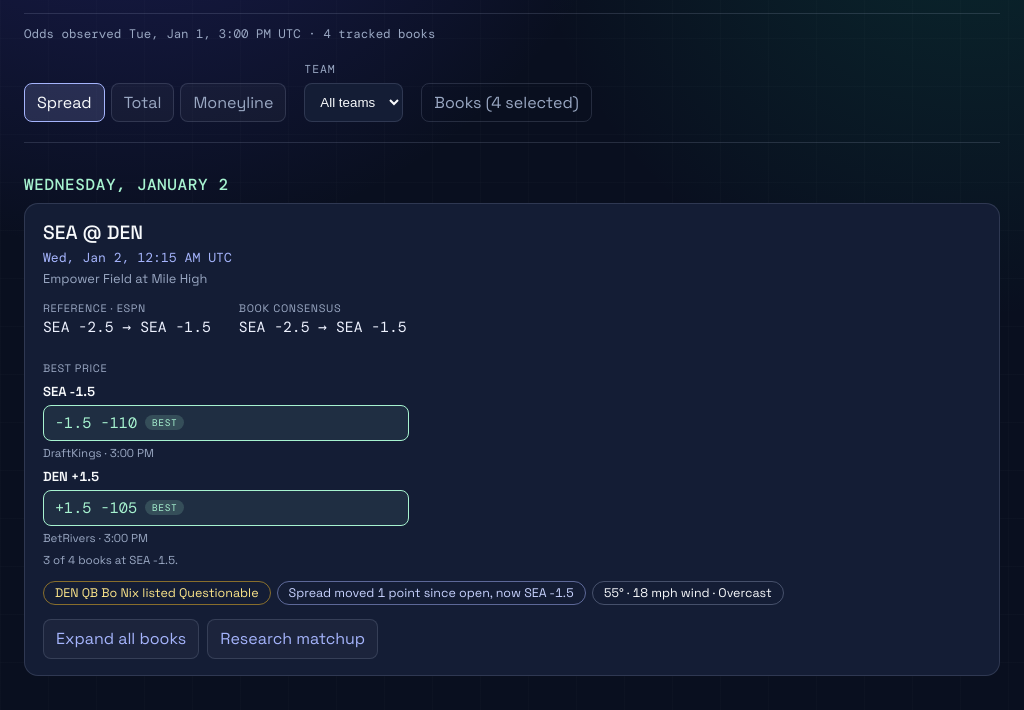
Test: SlatePage week board › shows the best price per side at the same line, with its book, and what it was compared against
(page scrolled)
Expected: the button with aria-label "Log BetRivers DEN +1.5 -105" is shown, [43,490,409,526]
Expected: the button with aria-label "Log DraftKings SEA -1.5 -110" is shown, [43,405,409,441]
BetMGM's +300 is a different number: shown once expanded, tagged, and never "Best".
Click the button "Expand all books": (121, 639) [43,619,199,659]
(page scrolled)
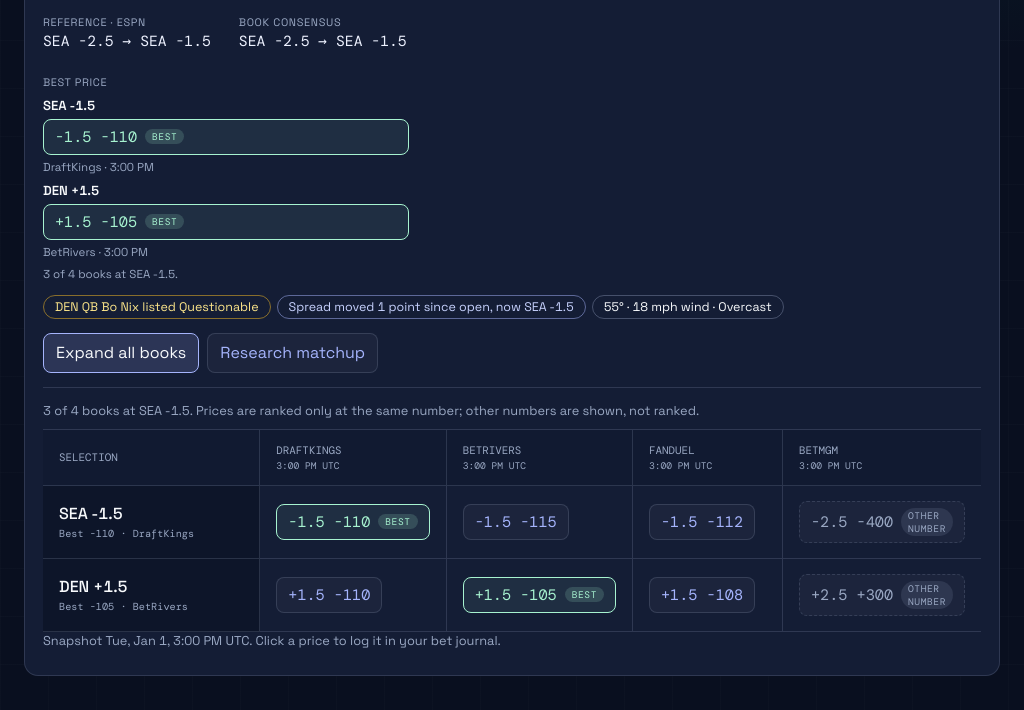
Expected: the button with aria-label "Log BetMGM DEN +2.5 +300" does not show "Best", [799,574,965,616]
Expected: the button with aria-label "Log BetMGM DEN +2.5 +300" shows "Other number", [799,574,965,616]
